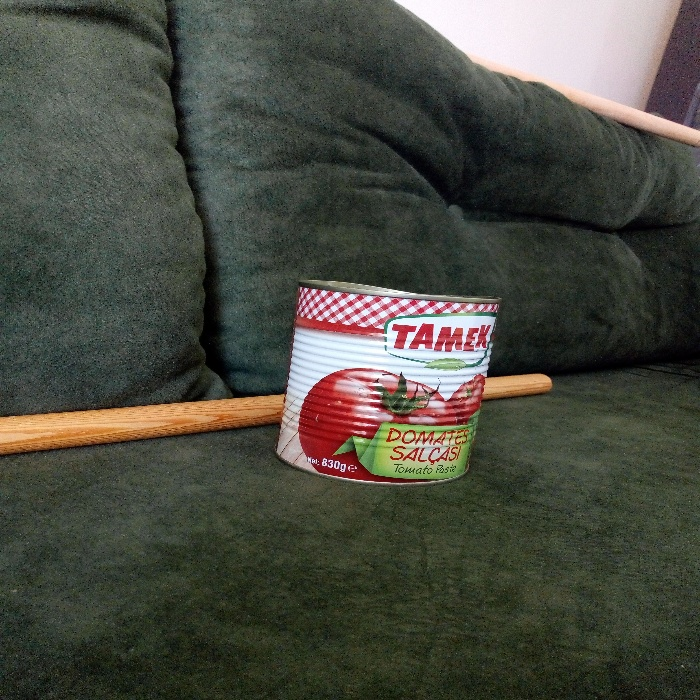salca: (261, 230, 499, 483)
